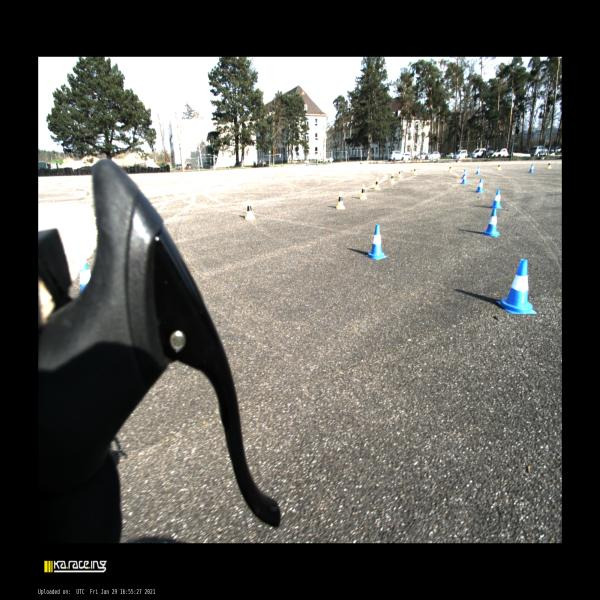blue_cone: (496, 260, 537, 314), (366, 224, 387, 260), (482, 209, 500, 237), (491, 190, 503, 208), (476, 179, 484, 193), (461, 174, 467, 184), (529, 164, 534, 173), (462, 169, 466, 179), (476, 166, 480, 175)
yellow_cone: (245, 200, 255, 220), (337, 191, 346, 209), (359, 184, 367, 200), (374, 178, 381, 190), (390, 174, 396, 184), (412, 167, 418, 175), (448, 164, 453, 173), (398, 168, 402, 178), (547, 161, 551, 169), (497, 163, 501, 170)
